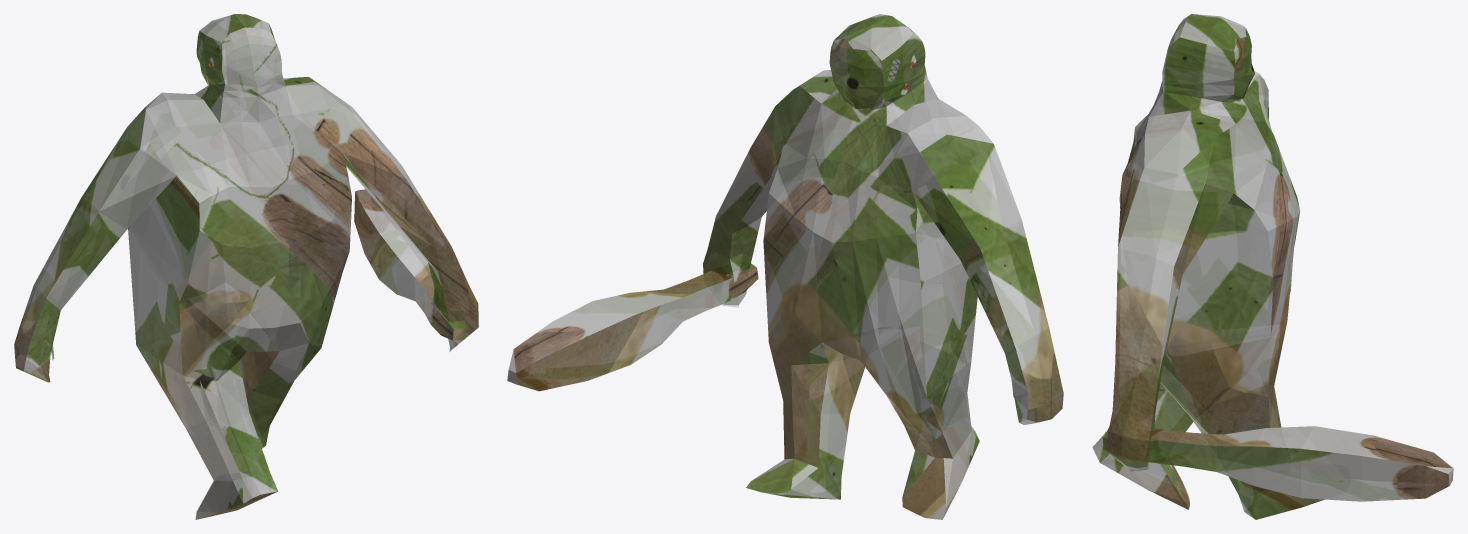
File: Enemigo27.obj
3 views of the same model, side by side, from view 1: azimuth 30°, elevation 25°; view 2: azimuth 150°, elevation 25°; view 3: azimuth 270°, elevation 25° (orthographic). The views are drawn at different scales.
Parts seen in each view (by area): view 1: Cube; view 2: Cube; view 3: Cube.
Boxes of the visible parts, x1,y1,x2,y2 form: Cube: (14,14,478,519); Cube: (507,14,1063,519); Cube: (1092,14,1453,519).
Bounding box in the file's own units: 2.76 × 2.83 × 1.84.
